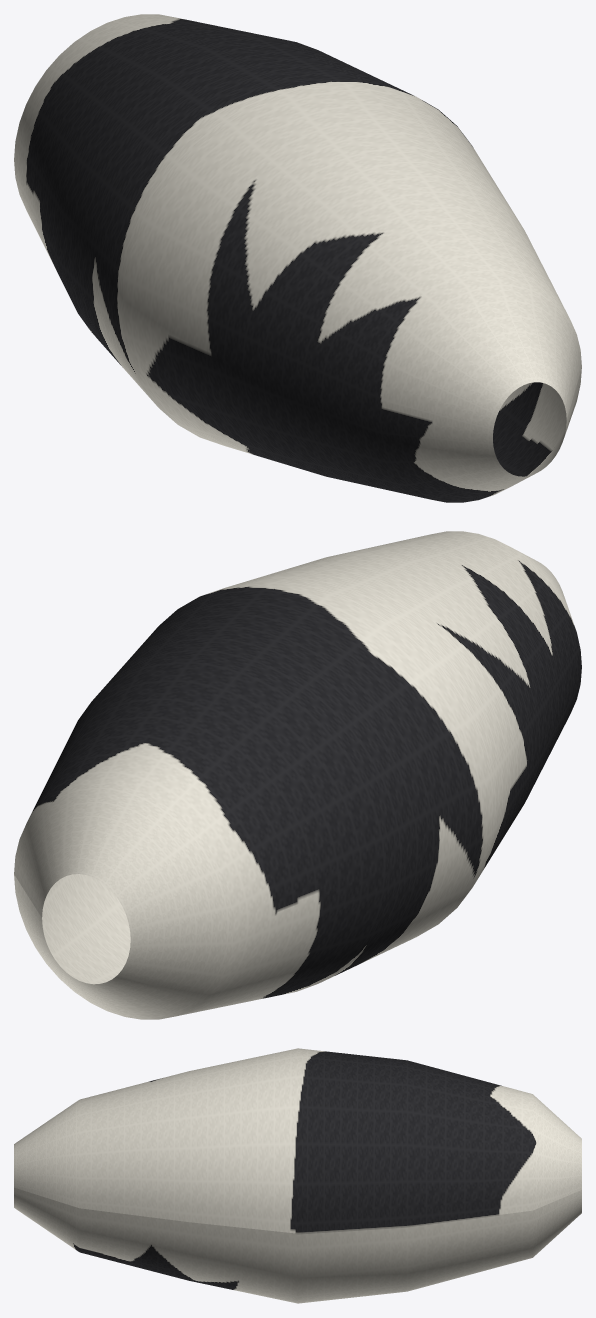
Rendered from neck.obj.
3 views of the same model, one above another, from view 1: azimuth 30°, elevation 25°; view 2: azimuth 150°, elevation 25°; view 3: azimuth 270°, elevation 25° (orthographic). The views are drawn at different scales.
Size of the model in its own units: 0.5 by 0.46 by 1.04.
Materials: 1 (1 with a texture image).
